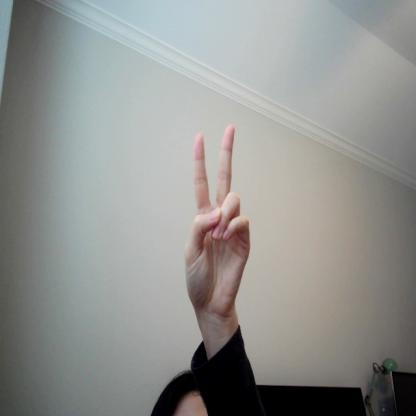two: (179, 121, 252, 312)
